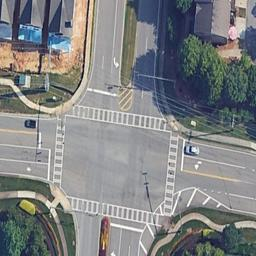Car: (184, 143, 200, 155), (22, 119, 37, 128)
Crosswalk: (63, 195, 159, 228), (69, 102, 169, 132), (161, 132, 182, 216), (51, 117, 66, 188)
Double Solid Yellow Line: (182, 168, 236, 180), (1, 128, 41, 134)
Left Turn Arrow: (192, 159, 203, 170), (113, 57, 120, 70)
Solid White Line: (183, 153, 242, 167), (1, 142, 52, 150), (1, 158, 48, 165), (227, 191, 255, 201), (117, 227, 123, 256)
Stopline: (110, 221, 144, 232), (89, 87, 118, 98), (181, 140, 184, 171), (37, 132, 42, 148), (49, 150, 51, 180)
White Dashed Line: (140, 22, 153, 100), (200, 187, 226, 196), (127, 240, 133, 256), (245, 166, 256, 174)
